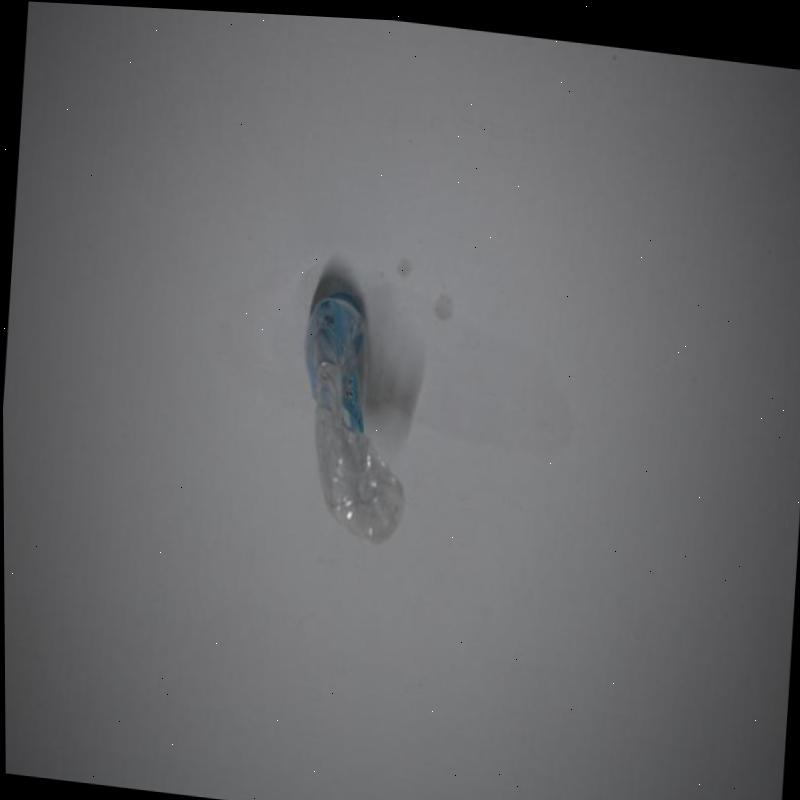botella: (281, 284, 418, 543)
